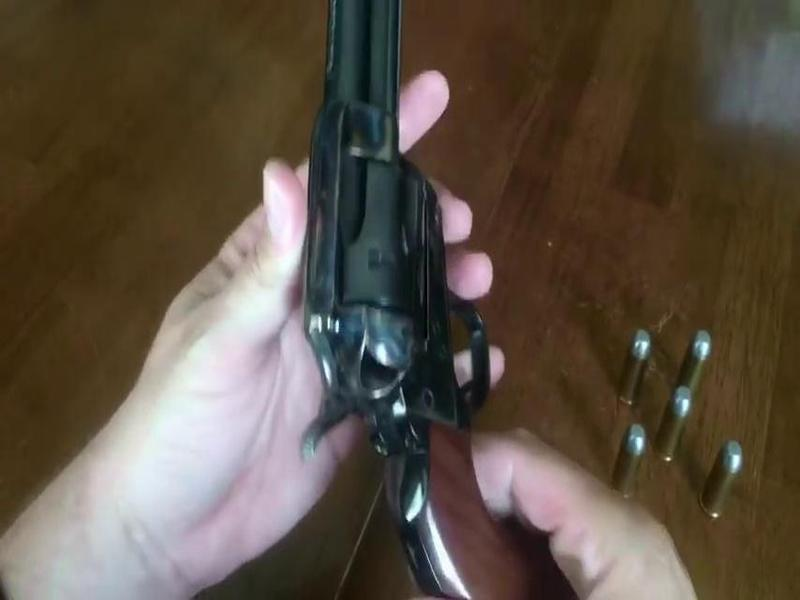Revolver: (281, 9, 578, 600)
